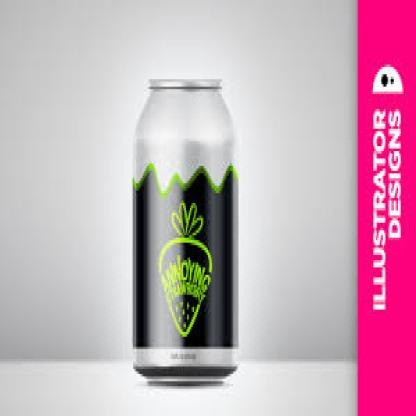trash: (133, 79, 237, 383)
